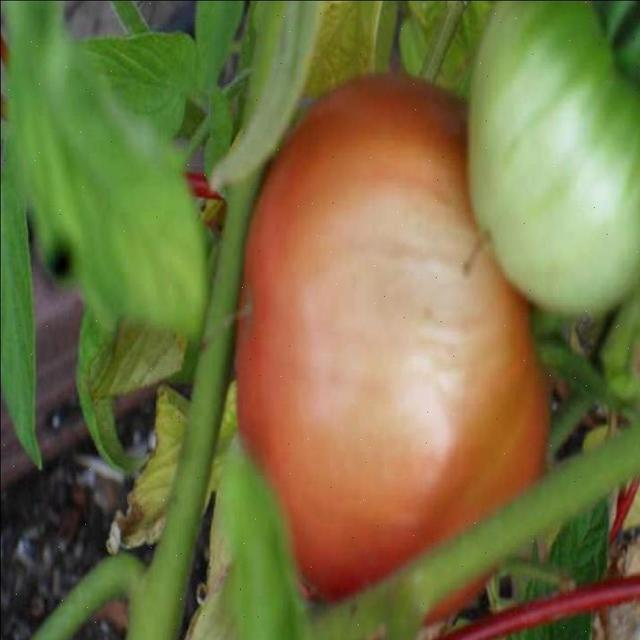Sunscald Fruit: (87, 101, 374, 248)
